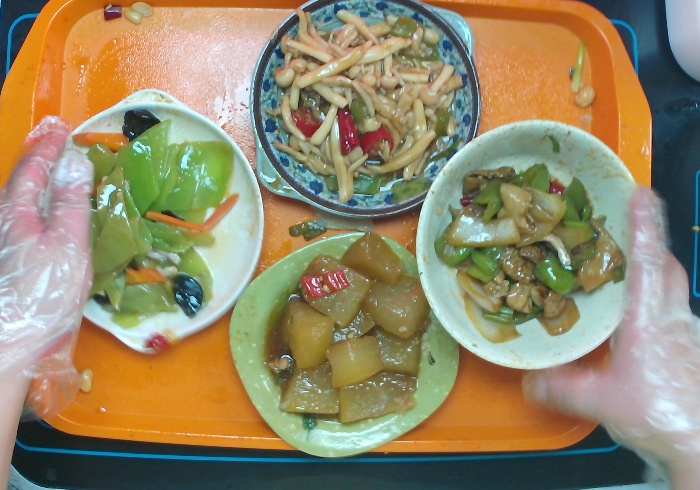NLDX-Bai_Se_Shuang_Er_Die: (48, 86, 269, 358)
NLDX-Bai_Se_Yuan_Wan: (415, 118, 653, 372)
NLDX-Lv_Hua_Fang_Die: (223, 228, 466, 460)
NLDX-Qing_Hua_Shuang_Er_Die: (245, 1, 488, 221)
